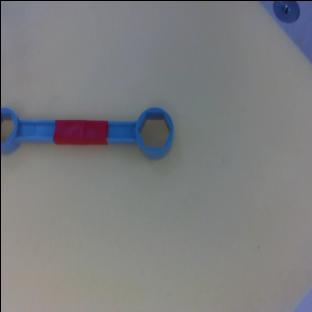part_3_good: (0, 107, 173, 159)
